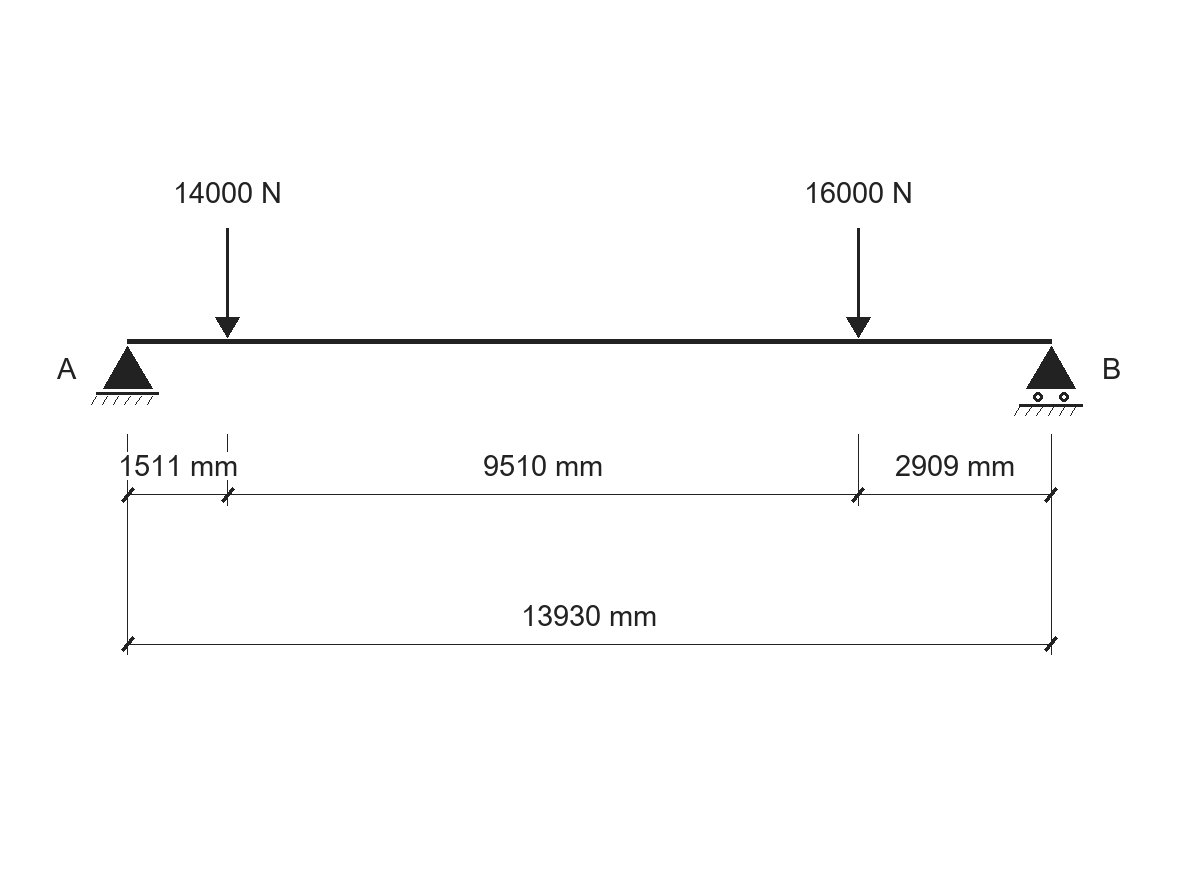pin_support: (91, 346, 159, 405)
point_load: (215, 228, 240, 338), (846, 228, 871, 338)
roller_support: (1014, 346, 1083, 416)
